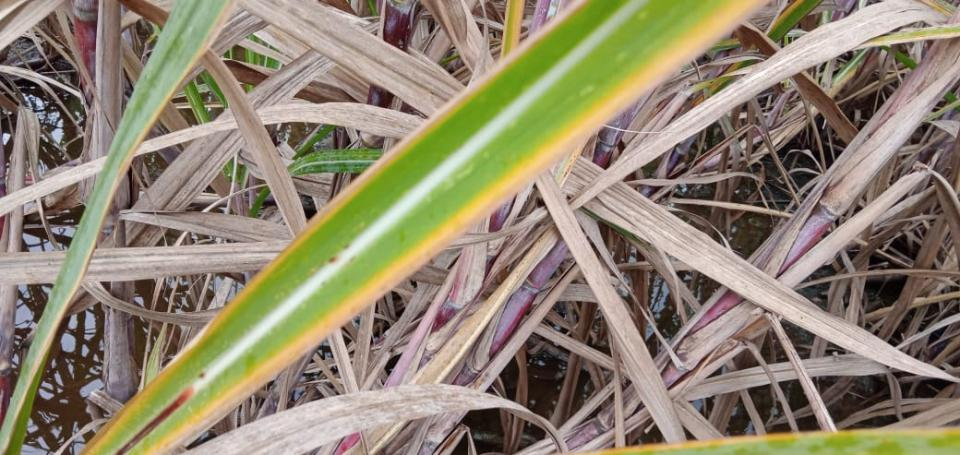RedRot: (111, 387, 194, 454), (328, 257, 339, 264), (198, 373, 206, 379)
Yellow: (142, 1, 763, 454), (77, 0, 586, 454), (551, 426, 959, 454)
